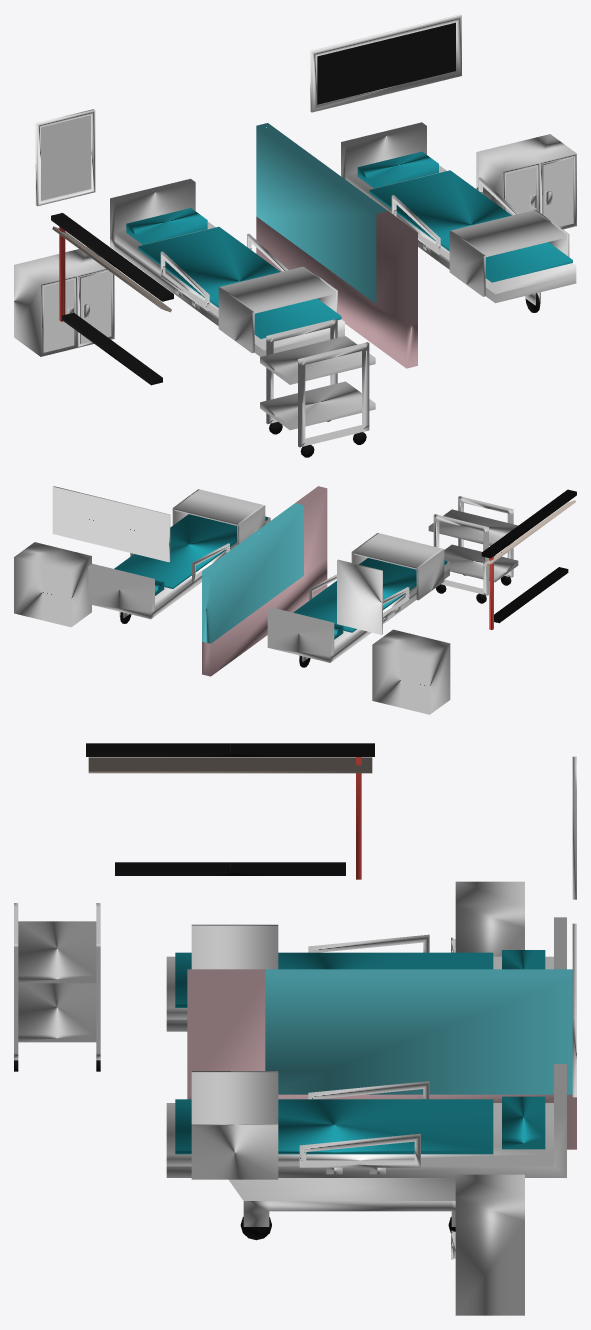
Rendered from hospital_ward.glb.
3 views of the same model, one above another, from view 1: azimuth 30°, elevation 25°; view 2: azimuth 150°, elevation 25°; view 3: azimuth 270°, elevation 25° (orthographic). The views are drawn at different scales.
Parts seen in each view (by area): view 1: hospital_ward; view 2: hospital_ward; view 3: hospital_ward.
Part boxes in pixels (box(x1,y1,x2,y2)): hospital_ward: box(14, 14, 576, 457); hospital_ward: box(14, 486, 576, 714); hospital_ward: box(14, 743, 576, 1315).
Bounding box in the file's own units: 6.58 × 2.2 × 4.44.
